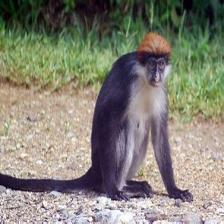monkey: (84, 32, 191, 205)
